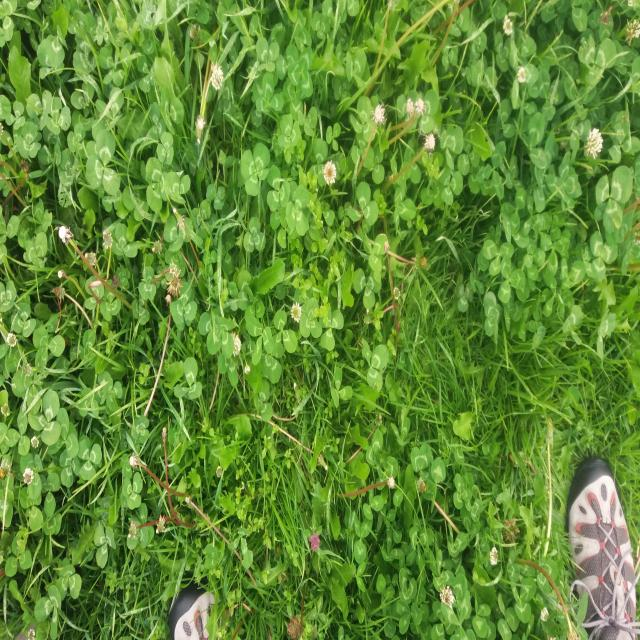Four Leaf Clover: (241, 142, 270, 196)
